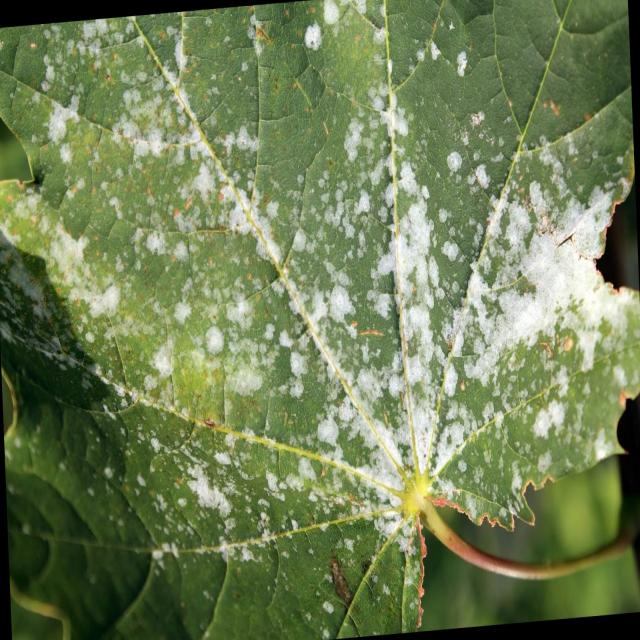Powdery Mildew: (1, 1, 638, 637)
